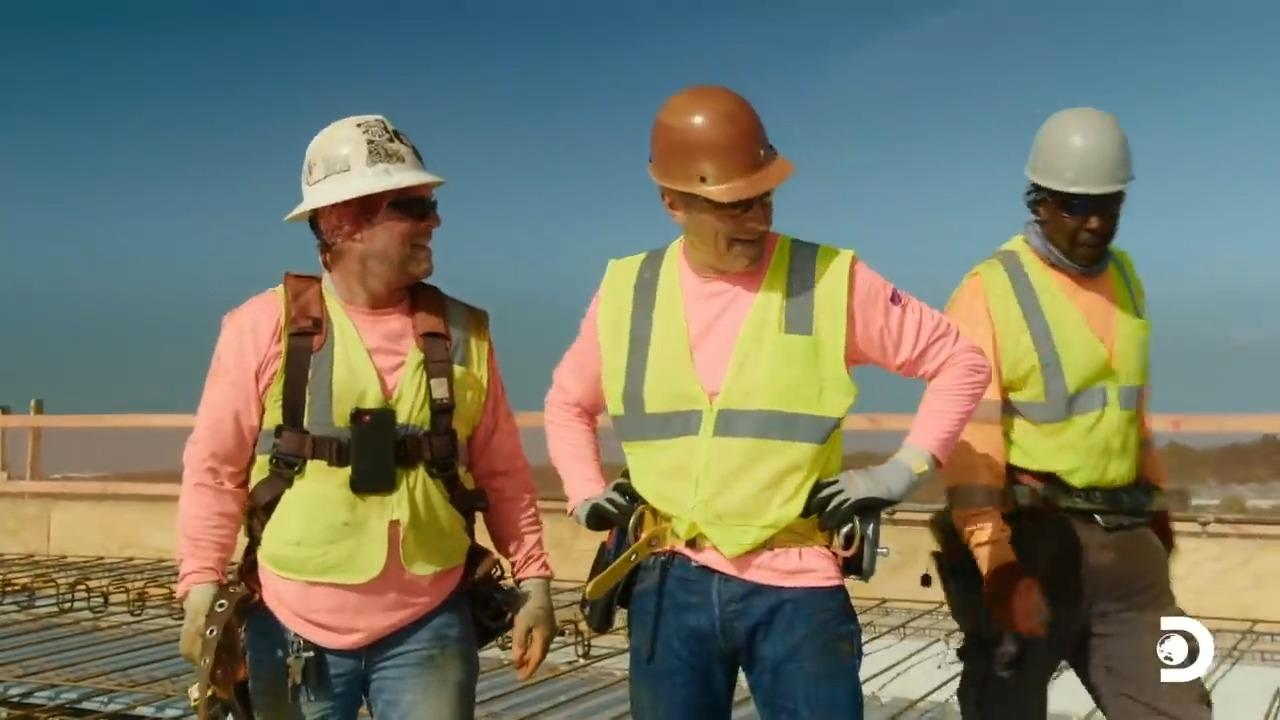Gloves: (179, 576, 245, 689), (974, 557, 1059, 644), (496, 576, 557, 681), (812, 471, 899, 531), (572, 483, 646, 529)
Helmet: (647, 84, 795, 204), (283, 113, 445, 222), (1023, 105, 1134, 195)
Person: (541, 83, 992, 719), (173, 113, 558, 719), (934, 105, 1214, 719)
Safety Vest: (594, 265, 842, 515), (263, 298, 470, 556), (999, 263, 1146, 452)
